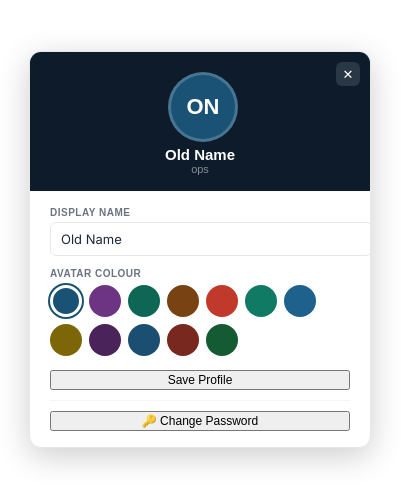
Test: UserProfilePanel: Save Profile now actually persists (was a client-side no-op) › shows an error and does NOT call onSave when the save fails (e.g. expired session)
This screenshot has width=401, height=486.
What coordinates should you click on to do the following:
click the button "Save Profile"
I would click on:
 (200, 380)
Its box is [50,370,350,390].
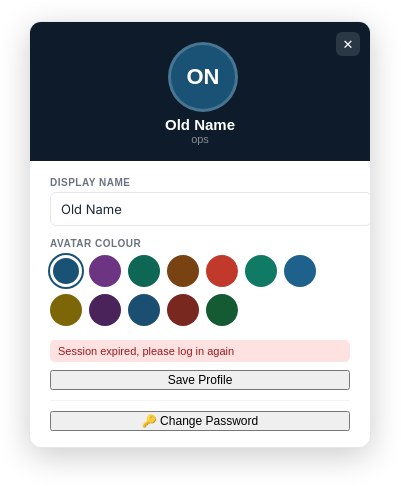
Check: the text "Session expired, please log in again" is shown, box [50,340,350,362]
